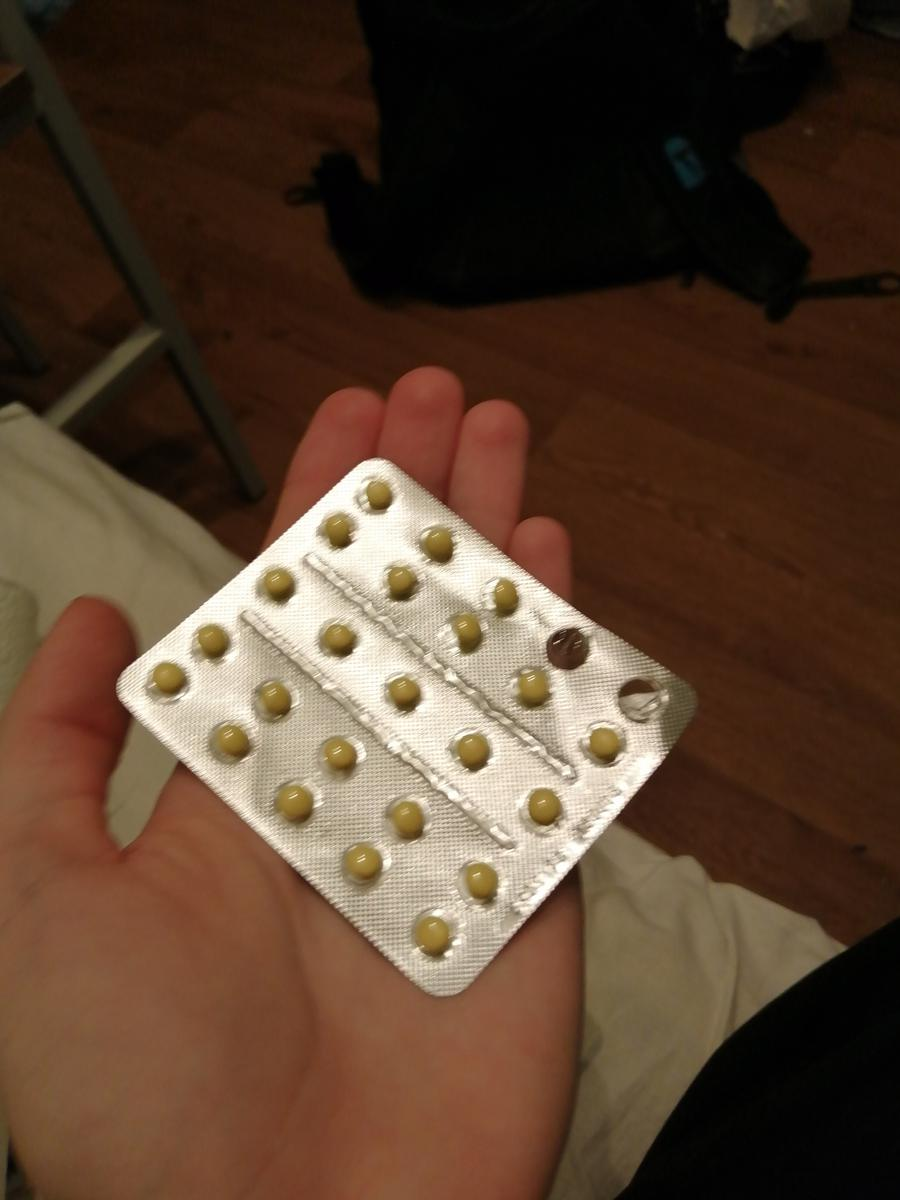tablet: (147, 655, 192, 703), (509, 663, 558, 705), (584, 719, 627, 766), (413, 913, 451, 959), (446, 608, 488, 649), (525, 784, 564, 828), (390, 799, 430, 840), (346, 843, 387, 883), (212, 723, 255, 760), (487, 577, 525, 617), (384, 565, 423, 603), (321, 733, 358, 773), (197, 621, 232, 663), (385, 675, 423, 713), (259, 564, 295, 604), (422, 527, 458, 566), (280, 783, 315, 823), (320, 619, 356, 657), (456, 732, 491, 771), (320, 513, 355, 551), (259, 681, 293, 719), (362, 477, 395, 513), (466, 865, 498, 902)
